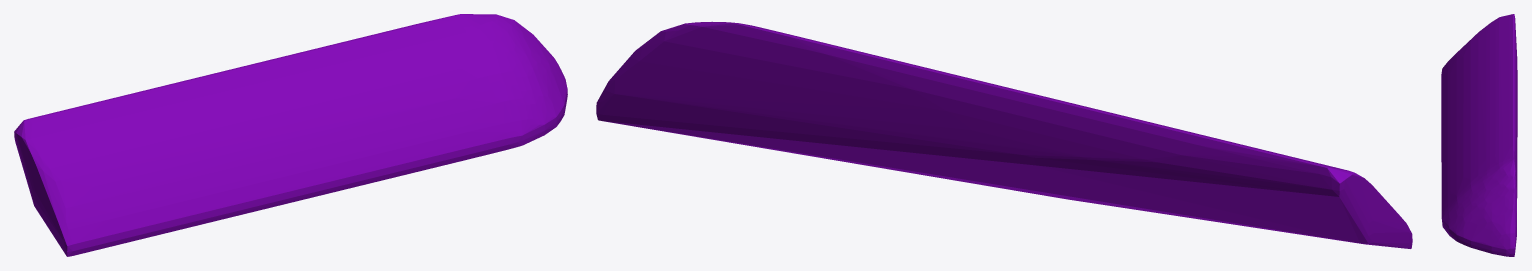
File: right-hip-pitch-0_part_32.obj
3 views of the same model, side by side, from view 1: azimuth 30°, elevation 25°; view 2: azimuth 150°, elevation 25°; view 3: azimuth 270°, elevation 25° (orthographic). The views are drawn at different scales.
Bounding box in the file's own units: 0.0984 × 0.0166 × 0.0174.
